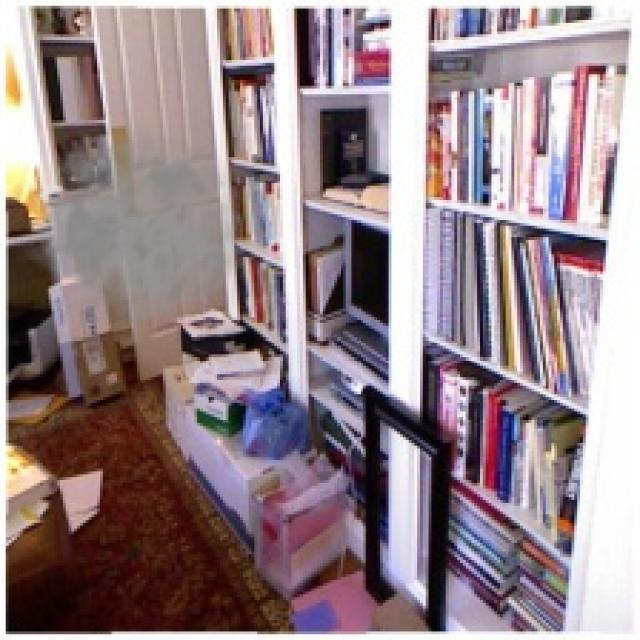Smoke: (17, 111, 249, 326)
